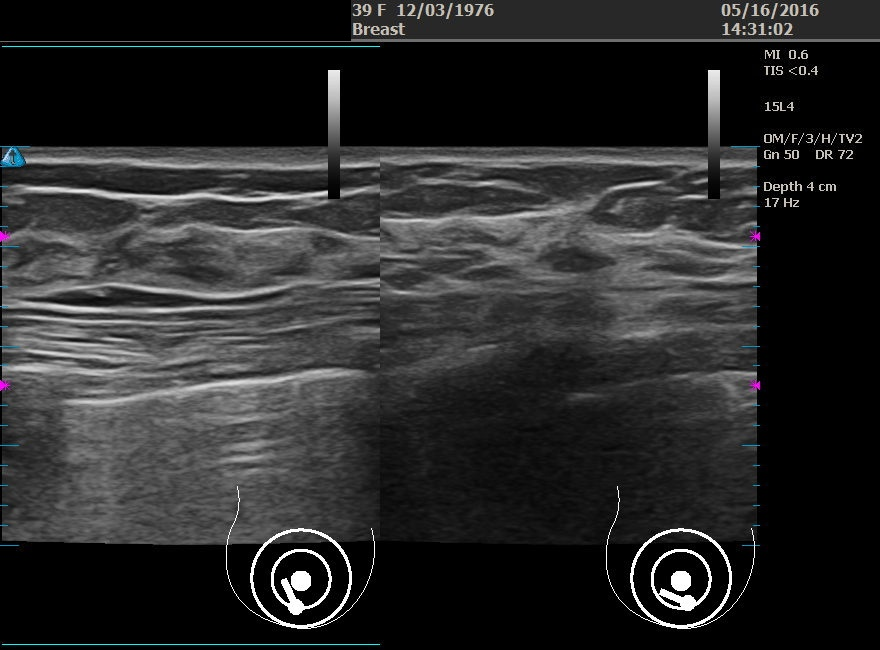BIRADS_2: (101, 189, 301, 389), (474, 176, 674, 376)
